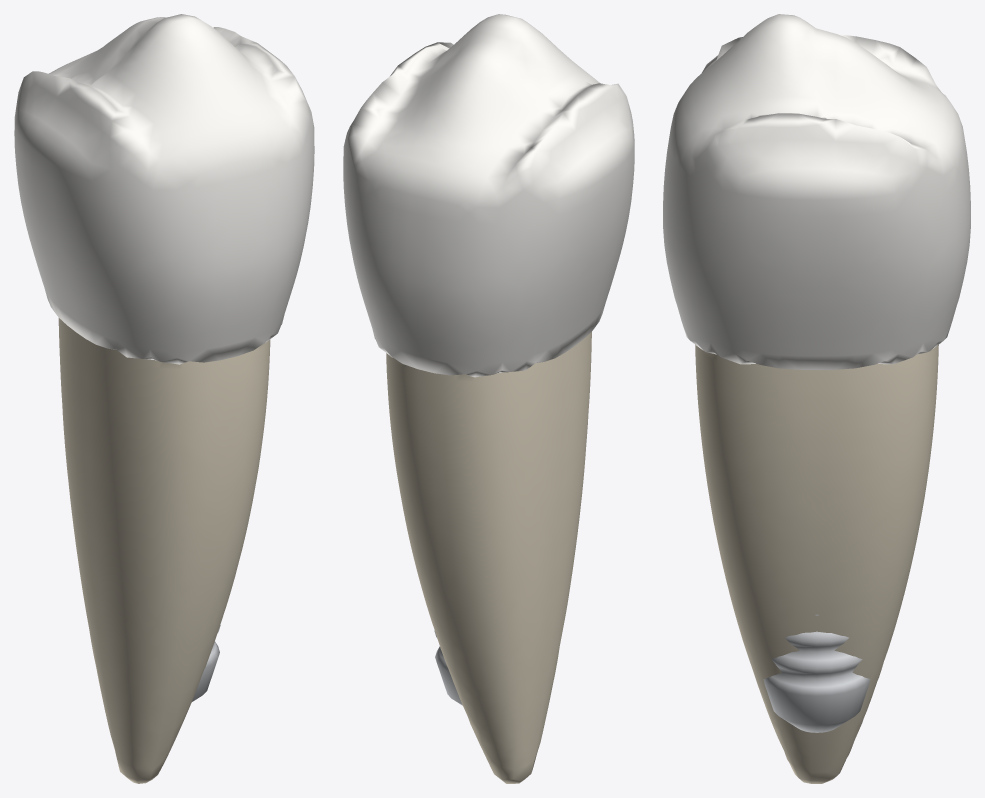
3 views of the same model, side by side, from view 1: azimuth 30°, elevation 25°; view 2: azimuth 150°, elevation 25°; view 3: azimuth 270°, elevation 25° (orthographic). The views are drawn at different scales.
Parts seen in each view (by area): view 1: crown, root, implant; view 2: crown, root, implant; view 3: crown, root, implant.
Boxes of the visible parts, x1=… form: crown: x1=14, y1=14, x2=314, y2=364; root: x1=58, y1=318, x2=270, y2=783; implant: x1=192, y1=625, x2=220, y2=701; crown: x1=343, y1=14, x2=634, y2=377; root: x1=386, y1=332, x2=591, y2=783; implant: x1=434, y1=630, x2=462, y2=705; crown: x1=663, y1=14, x2=970, y2=369; root: x1=695, y1=344, x2=938, y2=783; implant: x1=763, y1=614, x2=870, y2=732.
Bounding box in the file's own units: 7.69 × 22.79 × 8.19.
